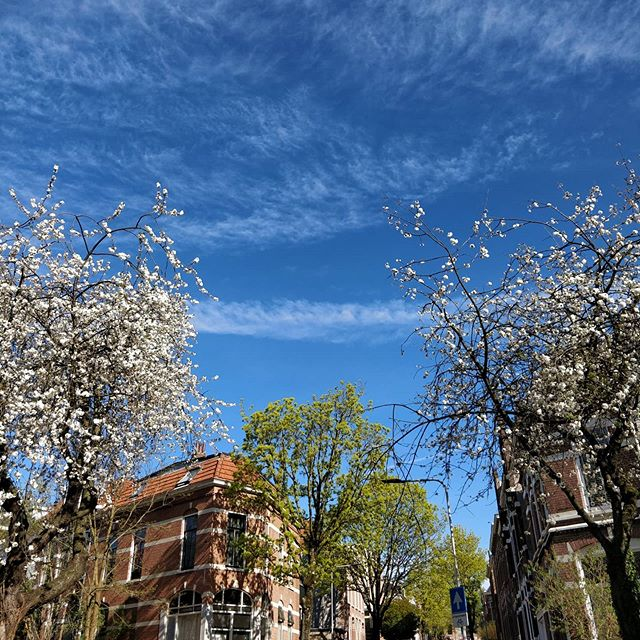building: (37, 451, 357, 640), (486, 443, 633, 640)
sky: (11, 2, 640, 410)
tree: (438, 199, 640, 597), (1, 212, 219, 514), (248, 400, 365, 634), (351, 464, 432, 640)
